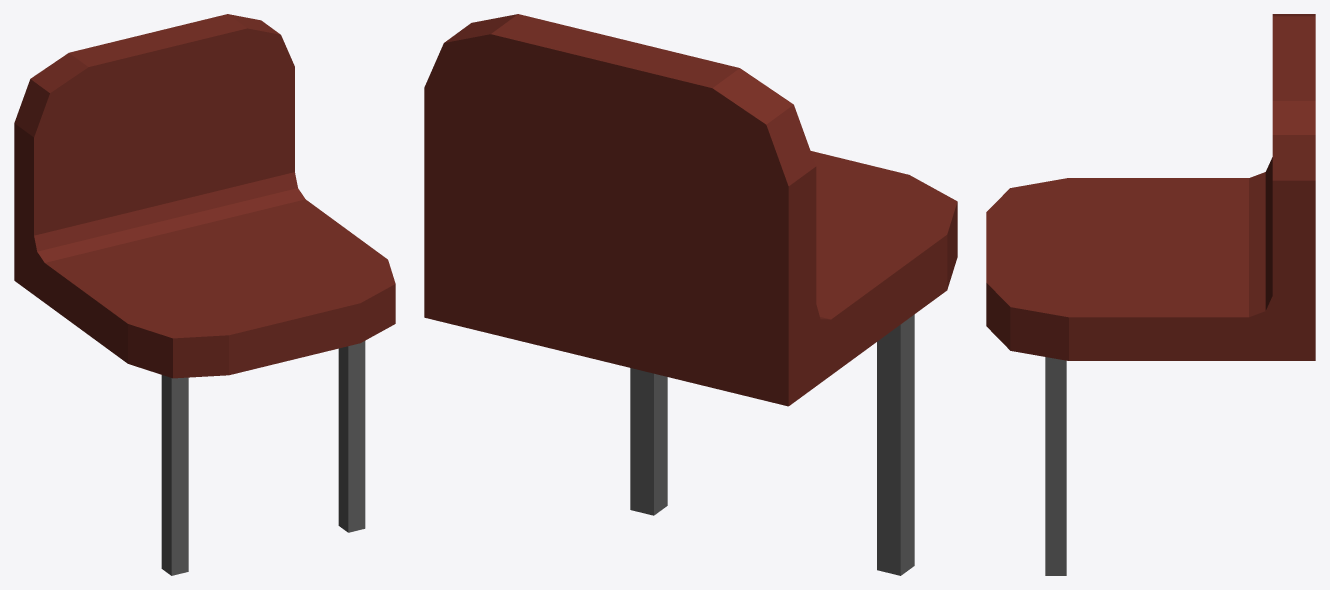
Rendered from Wall-chair.fbx.
3 renders of one model, left to right at view 1: azimuth 30°, elevation 25°; view 2: azimuth 150°, elevation 25°; view 3: azimuth 270°, elevation 25°, orthographic. The views are drawn at different scales.
Visible parts, largest first — view 1: Cube, Cube.001; view 2: Cube, Cube.001; view 3: Cube, Cube.001.
Boxes of the visible parts, left/top/right/bottom form: Cube: left=14, top=14, right=395, bottom=378; Cube.001: left=161, top=341, right=365, bottom=575; Cube: left=424, top=14, right=957, bottom=406; Cube.001: left=630, top=314, right=914, bottom=575; Cube: left=986, top=14, right=1315, bottom=360; Cube.001: left=1045, top=357, right=1066, bottom=575.
Bounding box in the file's own units: 96.33 × 151 × 96.33.
